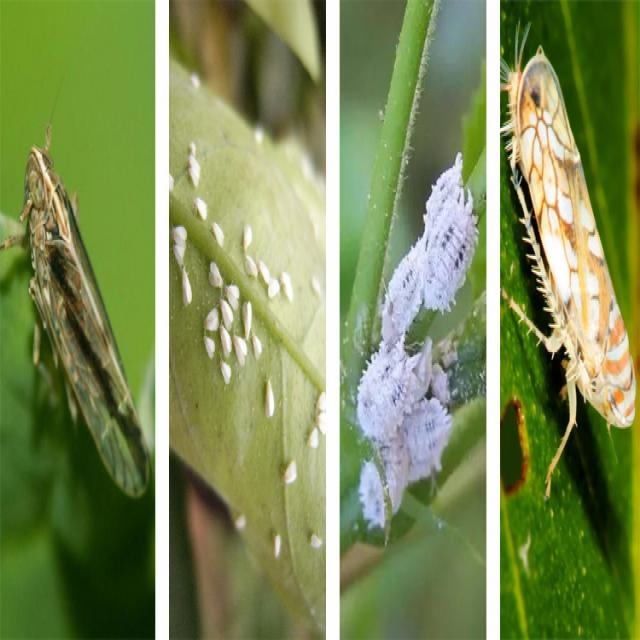Yechan: (511, 51, 636, 451), (20, 134, 151, 501)
